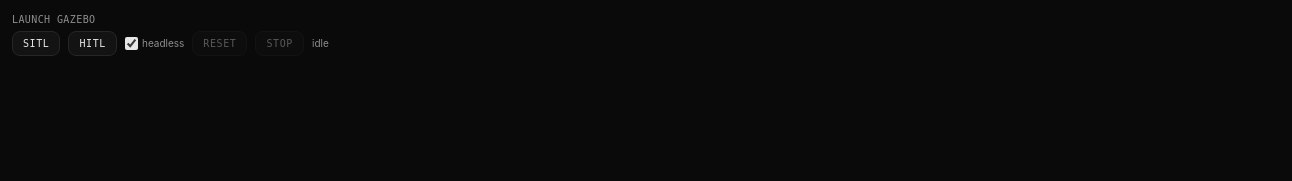
GazeboPanel › posts the scenario and mode, then shows the running session and enables Stop
Check: the text "idle" is shown, box x1=312 y1=36 x2=329 y2=51
Click the button "SITL".
click(36, 44)  # box x1=12 y1=31 x2=60 y2=56
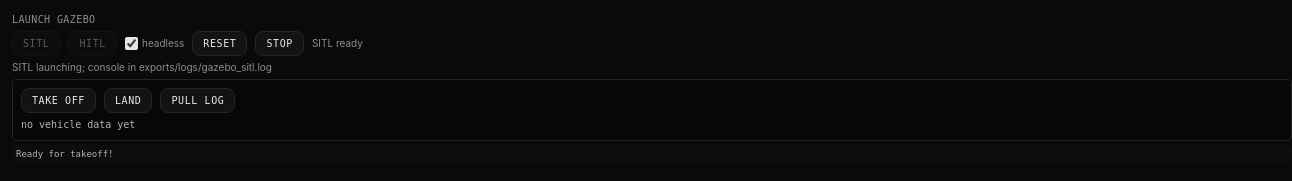
Check: the text "SITL ready" is shown, box x1=312 y1=36 x2=363 y2=51
Check: the text "Ready for takeoff!" is shown, box x1=12 y1=145 x2=1291 y2=164
Check: the button "HITL" is disabled, box x1=68 y1=31 x2=117 y2=56
Click the button "Reset".
click(220, 44)  # box x1=192 y1=31 x2=248 y2=56
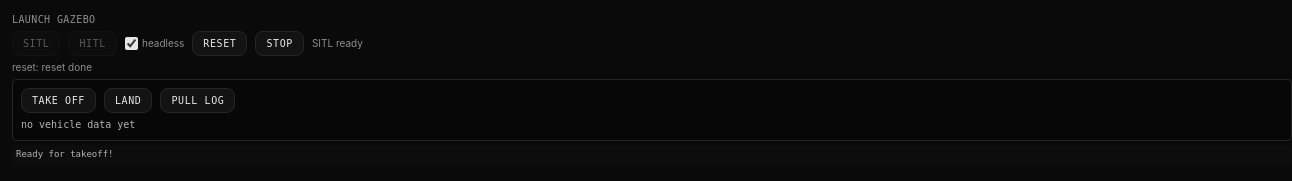
Check: the text "SITL ready" is shown, box x1=312 y1=36 x2=363 y2=51
Check: the text "reset done" is shown, box x1=12 y1=61 x2=92 y2=73
Click the button "Stop".
click(280, 44)  # box x1=256 y1=31 x2=304 y2=56
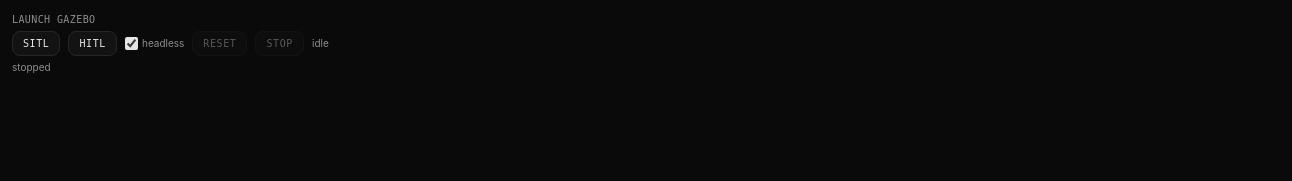
Check: the text "idle" is shown, box x1=312 y1=36 x2=329 y2=51
Check: the text "stopped" is shown, box x1=12 y1=61 x2=51 y2=73
